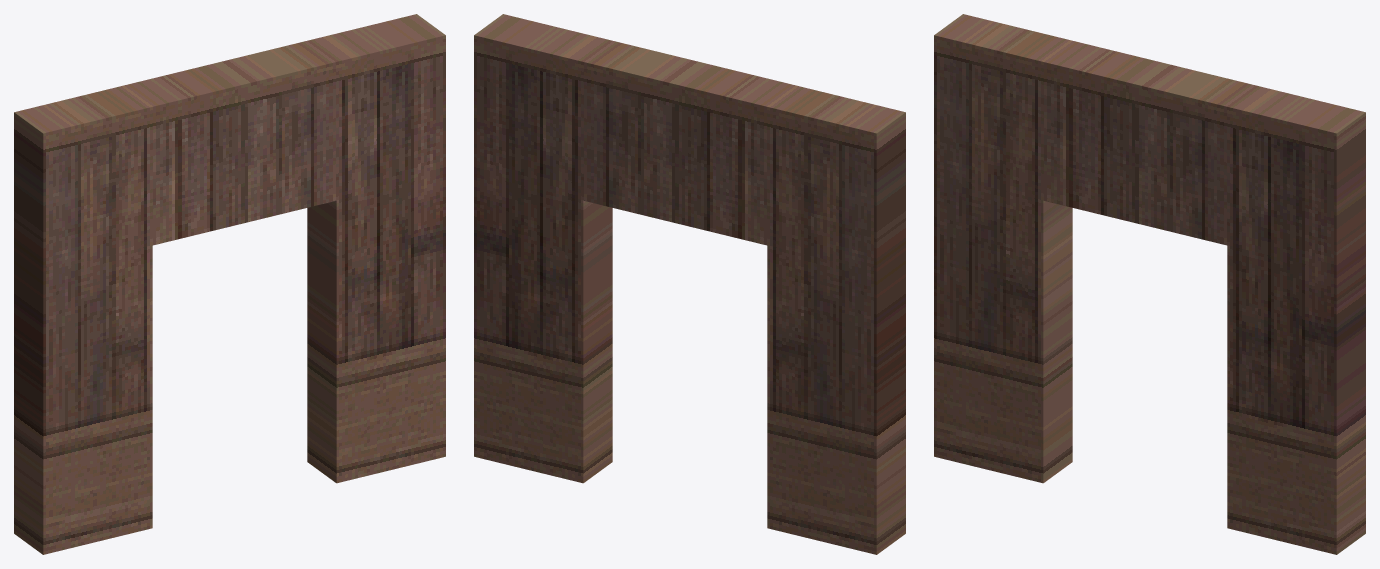
Rendered from wallDoorWood-thick.glb.
3 renders of one model, left to right at view 1: azimuth 30°, elevation 25°; view 2: azimuth 150°, elevation 25°; view 3: azimuth 330°, elevation 25°, orthographic.
Parts seen in each view (by area): view 1: wallDoorWood; view 2: wallDoorWood; view 3: wallDoorWood.
Part boxes in pixels (<box>): wallDoorWood: <box>14,14,445,554</box>; wallDoorWood: <box>474,14,905,554</box>; wallDoorWood: <box>934,14,1365,554</box>.
Size of the model in its own units: 4 by 4 by 0.5.
Materials: 1 (1 with a texture image).
